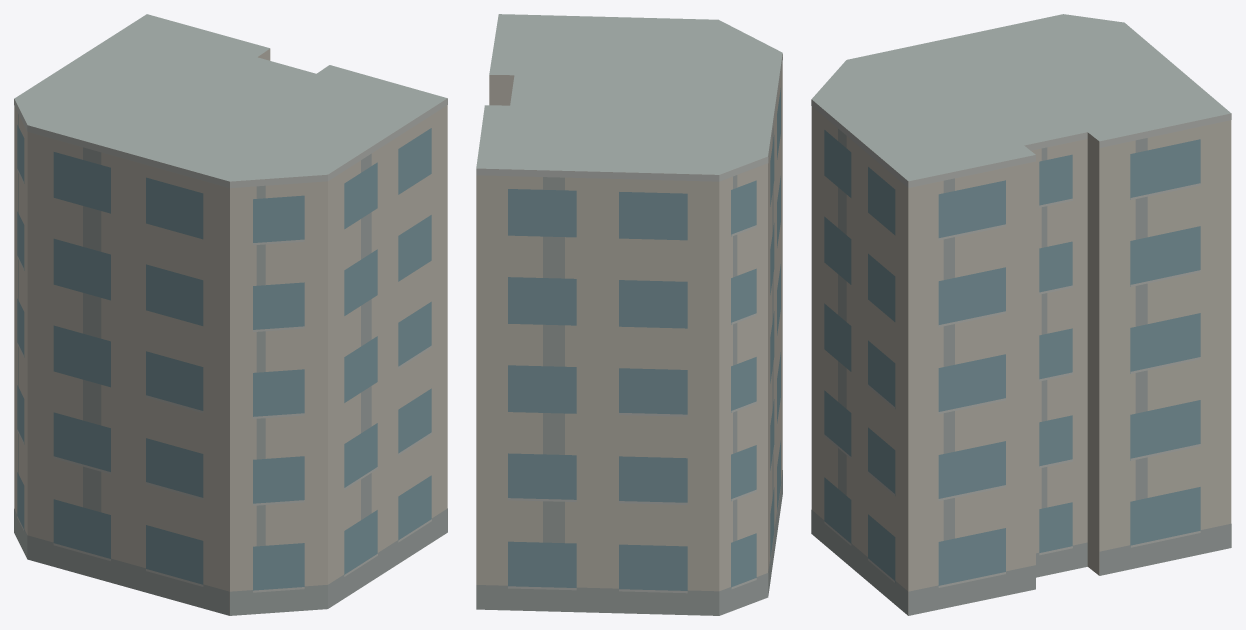
Rendered from survey-upis-32833967.glb.
The picture shows the model from 3 angles, left to right: view 1: azimuth 30°, elevation 25°; view 2: azimuth 150°, elevation 25°; view 3: azimuth 270°, elevation 25°; orthographic projection.
Parts seen in each view (by area): view 1: survey-upis-32833967.tmp; view 2: survey-upis-32833967.tmp; view 3: survey-upis-32833967.tmp.
Boxes of the visible parts, x1,y1,x2,y2 form: survey-upis-32833967.tmp: (14,14,447,615); survey-upis-32833967.tmp: (476,14,782,615); survey-upis-32833967.tmp: (811,14,1231,615).
Size of the model in its own units: 13.14 by 15.9 by 13.94.
